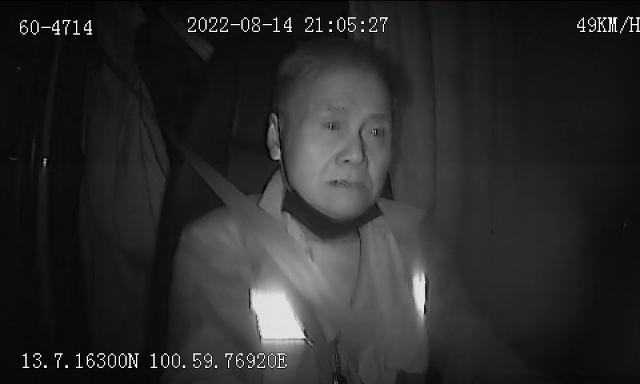SafeDriving: (360, 114, 392, 146), (316, 109, 348, 139)
Seatbelt: (196, 162, 364, 370)
